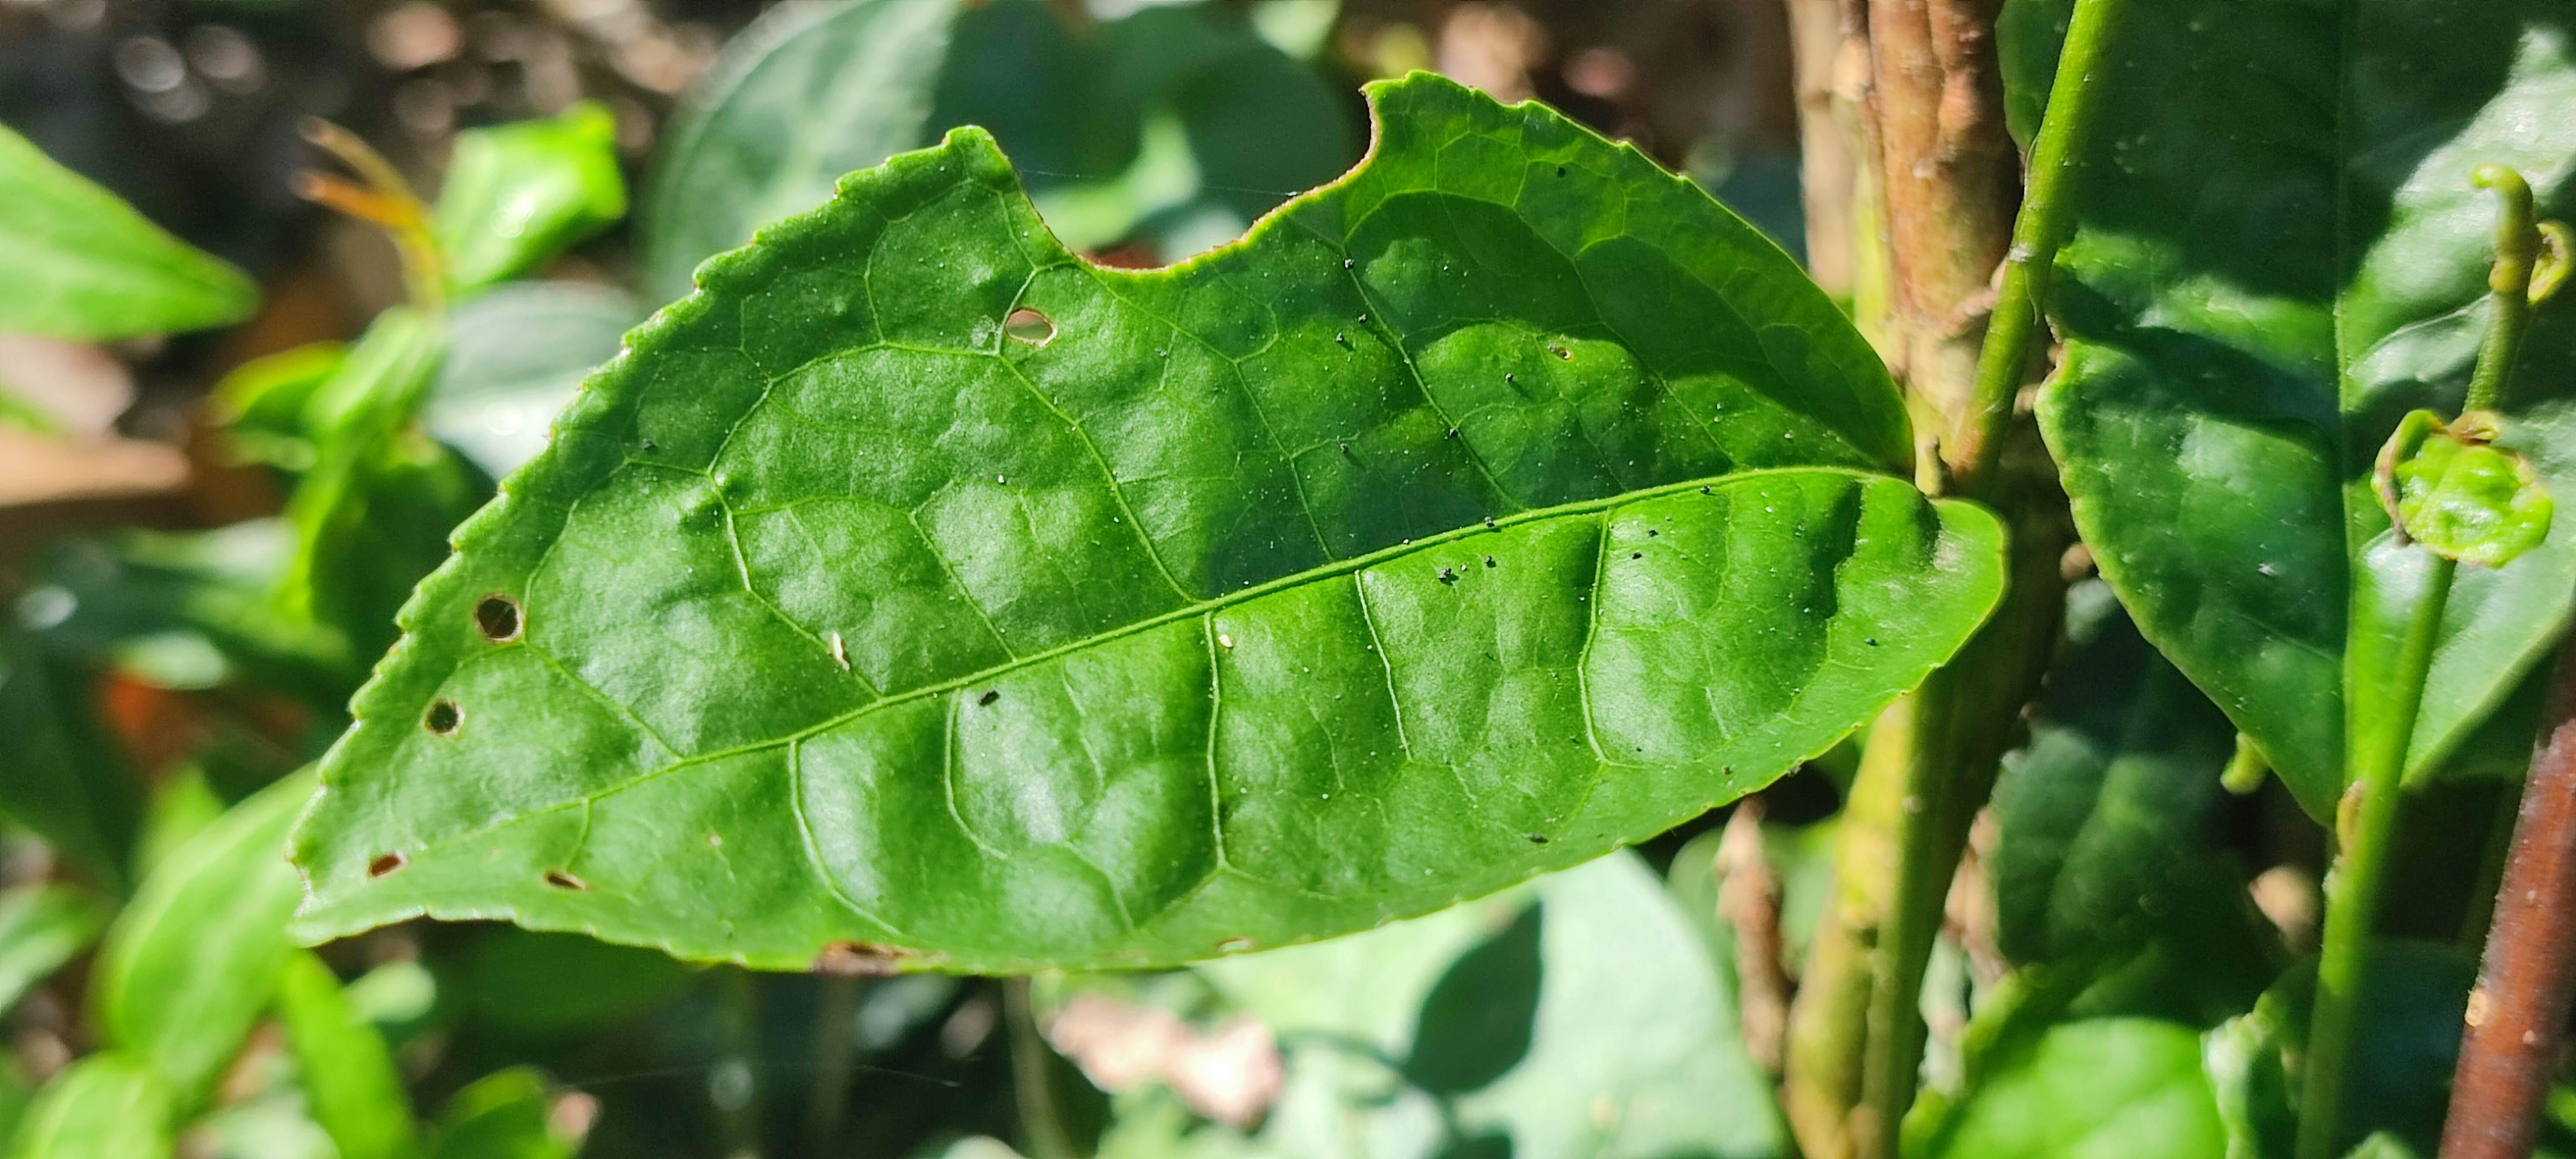chihuo_high: (289, 67, 2008, 983)
